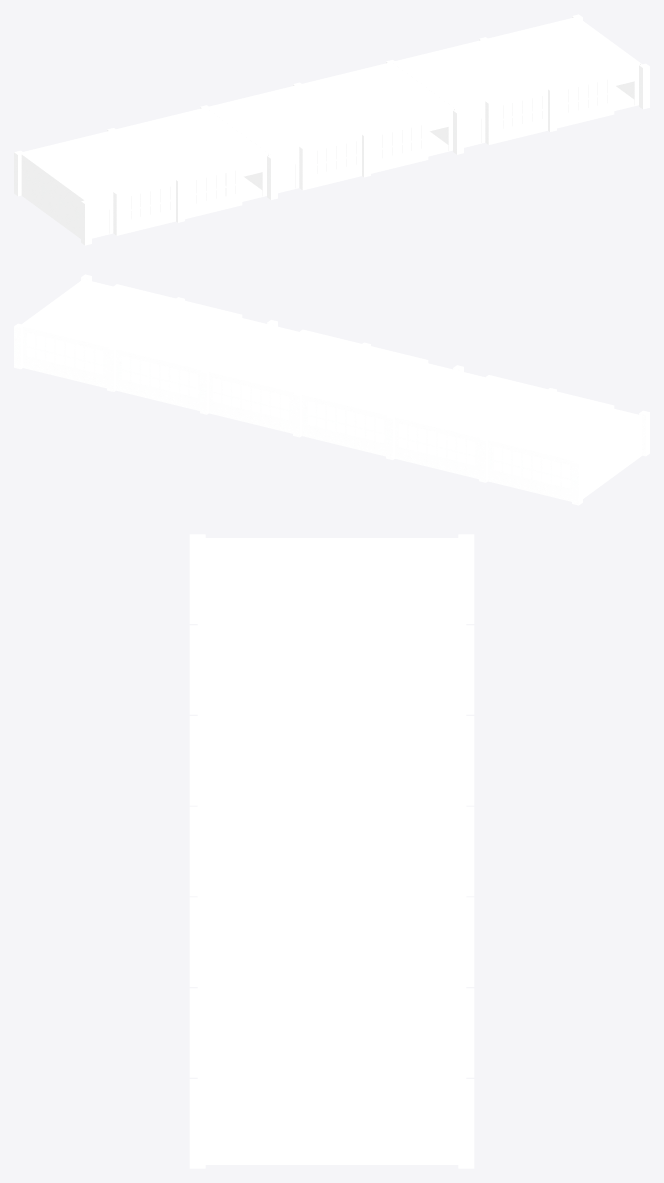
File: Labor-transformed.glb
The picture shows the model from 3 angles, top to bottom: view 1: azimuth 30°, elevation 25°; view 2: azimuth 150°, elevation 25°; view 3: azimuth 270°, elevation 25°; orthographic projection. The views are drawn at different scales.
Parts seen in each view (by area): view 1: Room; view 2: Room; view 3: Room.
Boxes of the visible parts, x1,y1,x2,y2 form: Room: (14, 14, 649, 245); Room: (14, 274, 649, 505); Room: (189, 534, 474, 1168).
Size of the model in its own units: 48.6 by 3.4 by 10.6.
Materials: 1 (1 with a texture image).
